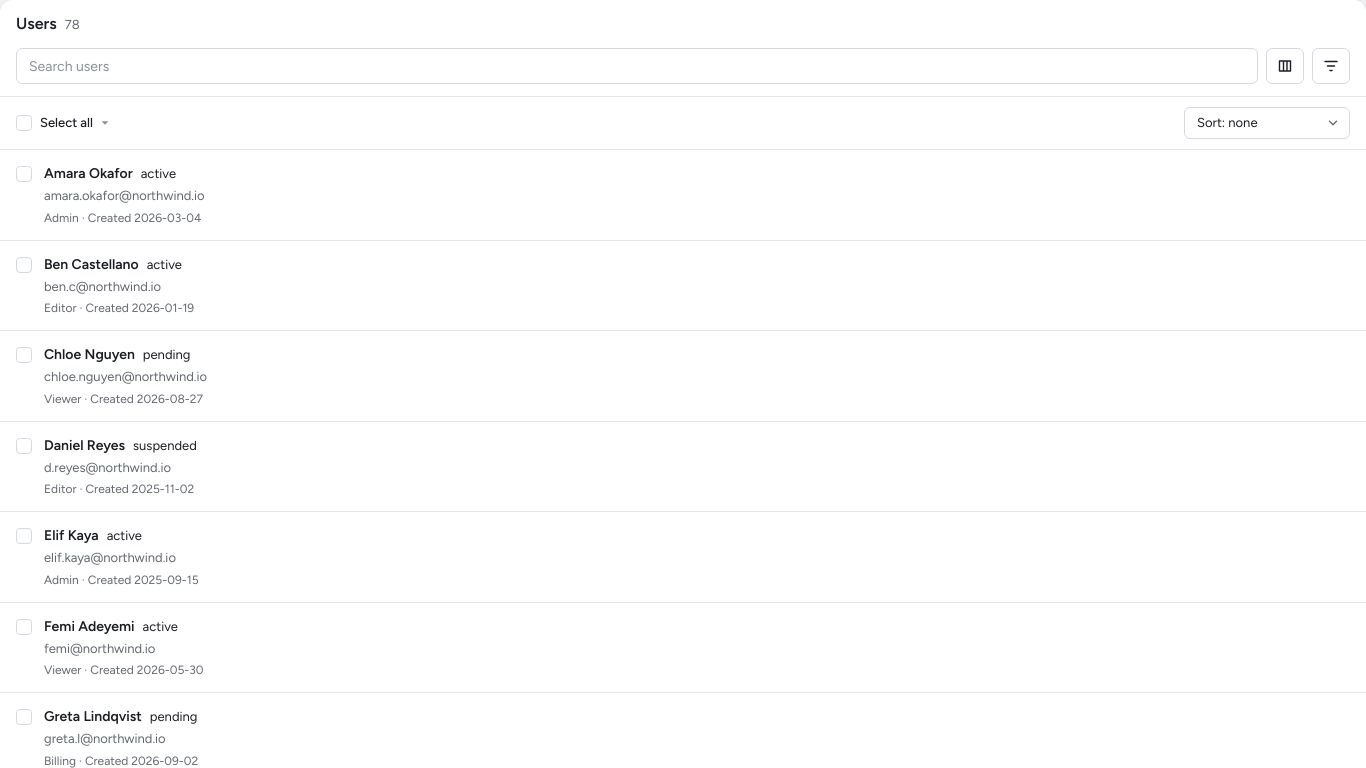
Test: DataTable · follow-ups › excludes hidden columns from mobile cards
Check: the list item that starts with "Amara Okafor" shows "Admin", box 44,210 -> 79,224
What coordinates should you click on to do the following:
click the button named "Columns"
I would click on:
 (1285, 66)
Its box is 1266,48 -> 1304,84.
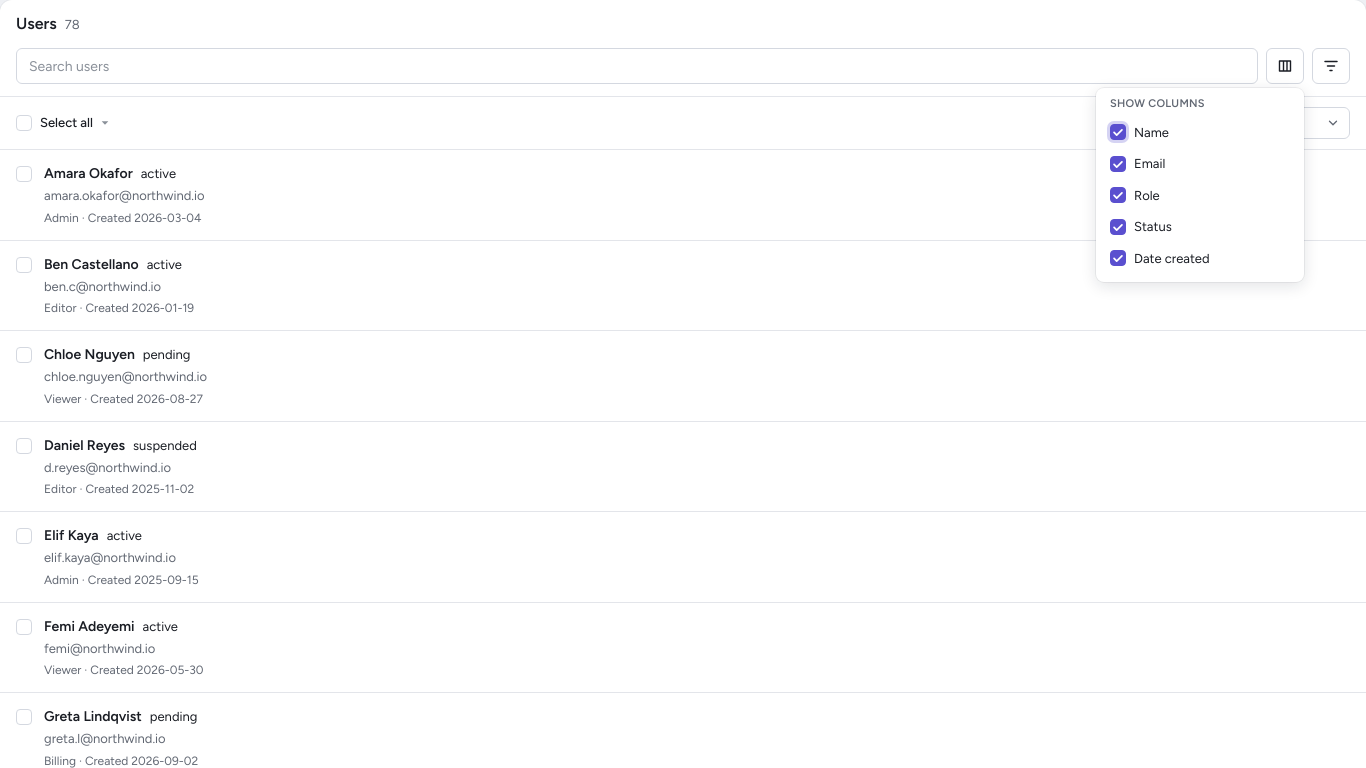
What coordinates should you click on to do the following:
click the checkbox labelled "Role"
I would click on:
 (1118, 195)
Its box is 1110,187 -> 1126,203.
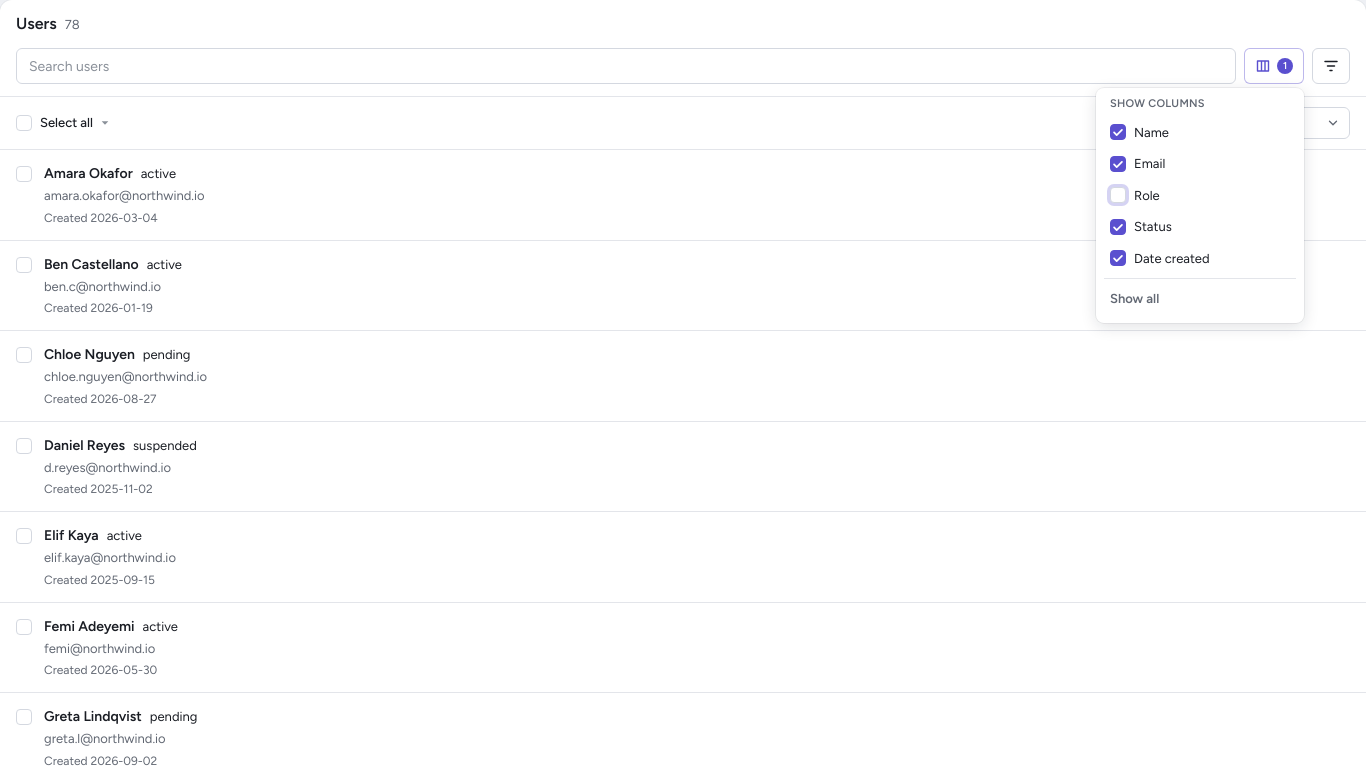
Check: the list item that starts with "Amara Okafor" no longer shows "Admin", box 0,150 -> 1365,240
